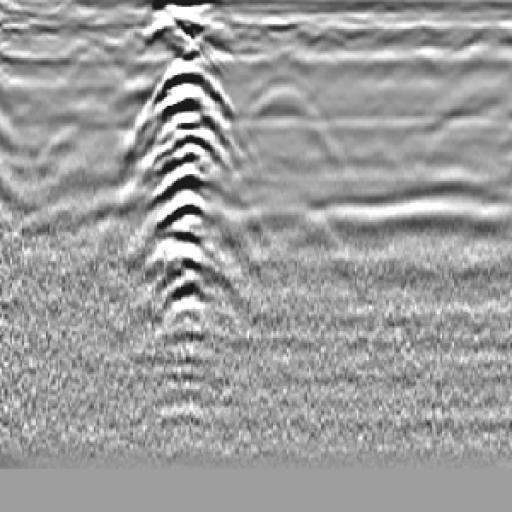metalic: (131, 15, 233, 372)
nonmetalic: (229, 72, 344, 183)
